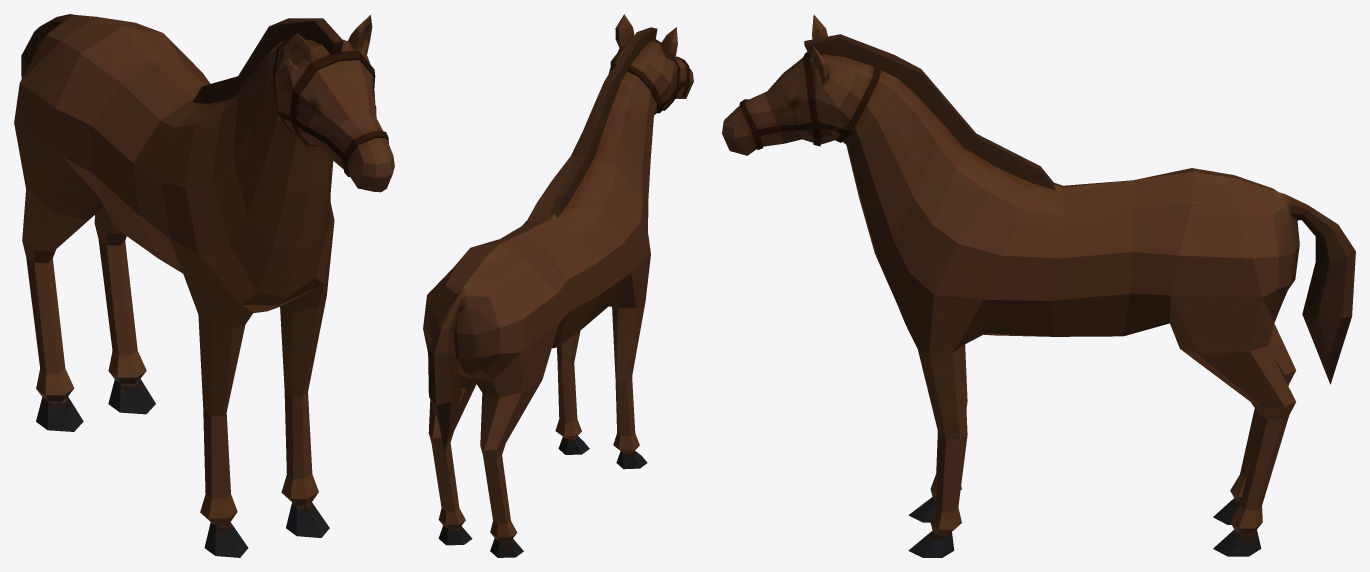
The model's file is animals-mizaky-horse-test-147.glb.
The picture shows the model from 3 angles, left to right: view 1: azimuth 30°, elevation 25°; view 2: azimuth 150°, elevation 25°; view 3: azimuth 270°, elevation 25°; orthographic projection. The views are drawn at different scales.
Parts seen in each view (by area): view 1: Horse_Mesh; view 2: Horse_Mesh; view 3: Horse_Mesh.
Boxes of the visible parts, bbox=[...] form: Horse_Mesh: bbox=[14, 14, 394, 557]; Horse_Mesh: bbox=[423, 14, 693, 557]; Horse_Mesh: bbox=[722, 14, 1355, 557].
Bounding box in the file's own units: 3.49 × 12.82 × 14.65.
1 material, 1 textured.
